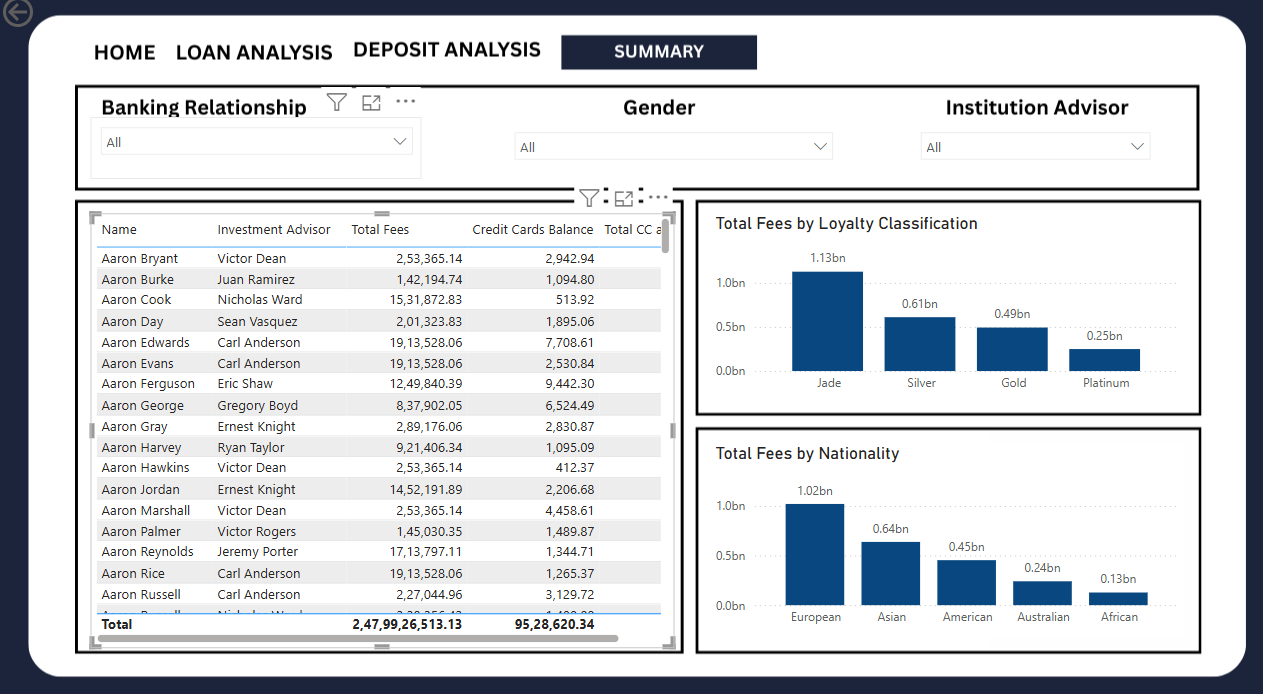

This screenshot's page, from the dashboard's own definition file:
{"tool":"powerbi","page":{"name":"Drill through","canvas":[1280,720],"ordinal":5},"visuals":[{"type":"slicer","title":"Banking Relationship","fields":{"Values":["banking customer.BRId"]},"box":[91.9,124.9,332.1,63.1],"z":0},{"type":"slicer","title":"Banking Relationship","fields":{"Values":["banking customer.GenderId"]},"box":[506.3,130.4,338.9,57.6],"z":1000},{"type":"slicer","title":"Banking Relationship","fields":{"Values":["banking customer.IAId"]},"box":[912.5,130.4,249.7,57.6],"z":2000},{"type":"clusteredColumnChart","fields":{"Category":["banking customer.Nationality"],"Y":["banking customer.Total Fees"]},"box":[712.2,451.5,474.8,192.1],"z":3000},{"type":"clusteredColumnChart","fields":{"Y":["banking customer.Total Fees"],"Category":["Clients - Banking.Loyalty Classification"]},"box":[712.2,220.9,474.8,188],"z":4000},{"type":"tableEx","fields":{"Values":["Clients - Banking.Name","Investment Advisor.Investment Advisor","banking customer.Total Fees","banking customer.Credit Cards Balance","banking customer.Total CC amount"]},"box":[91.9,220.9,584.6,435],"z":5000},{"type":"actionButton","box":[0,0,100,40],"z":6000},{"type":"actionButton","box":[64.5,39.8,108.4,30.2],"z":7000},{"type":"actionButton","box":[172.9,39.8,166,39.8],"z":8000},{"type":"actionButton","box":[351.3,34.3,197.6,39.8],"z":9000},{"type":"actionButton","box":[561.2,39.8,204.5,39.8],"z":10000}]}

Visuals, with their boxes in screenshot pixels (x1, y1, x2, y2), scaled from the page's 1280x720 canvas onto the 1263x694 screenshot:
"Banking Relationship" slicer: l=91, t=120, r=418, b=181
"Banking Relationship" slicer: l=500, t=126, r=834, b=181
"Banking Relationship" slicer: l=900, t=126, r=1147, b=181
clusteredColumnChart - banking customer.Nationality x banking customer.Total Fees: l=703, t=435, r=1171, b=620
clusteredColumnChart - banking customer.Total Fees x Clients - Banking.Loyalty Classification: l=703, t=213, r=1171, b=394
tableEx - Clients - Banking.Name x Investment Advisor.Investment Advisor: l=91, t=213, r=668, b=632
actionButton: l=0, t=0, r=99, b=39
actionButton: l=64, t=38, r=171, b=67
actionButton: l=171, t=38, r=334, b=77
actionButton: l=347, t=33, r=542, b=71
actionButton: l=554, t=38, r=756, b=77
